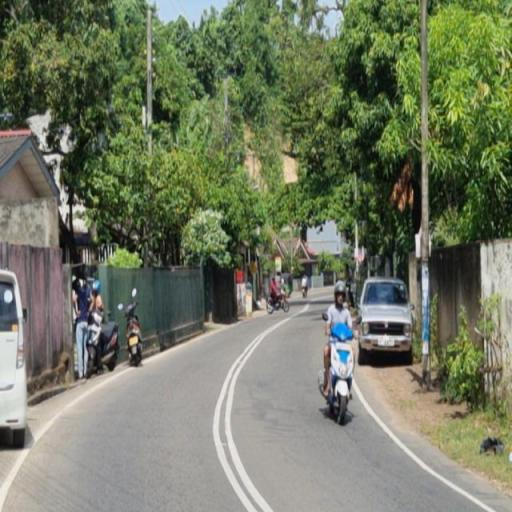double_white_line: (212, 316, 274, 511)
